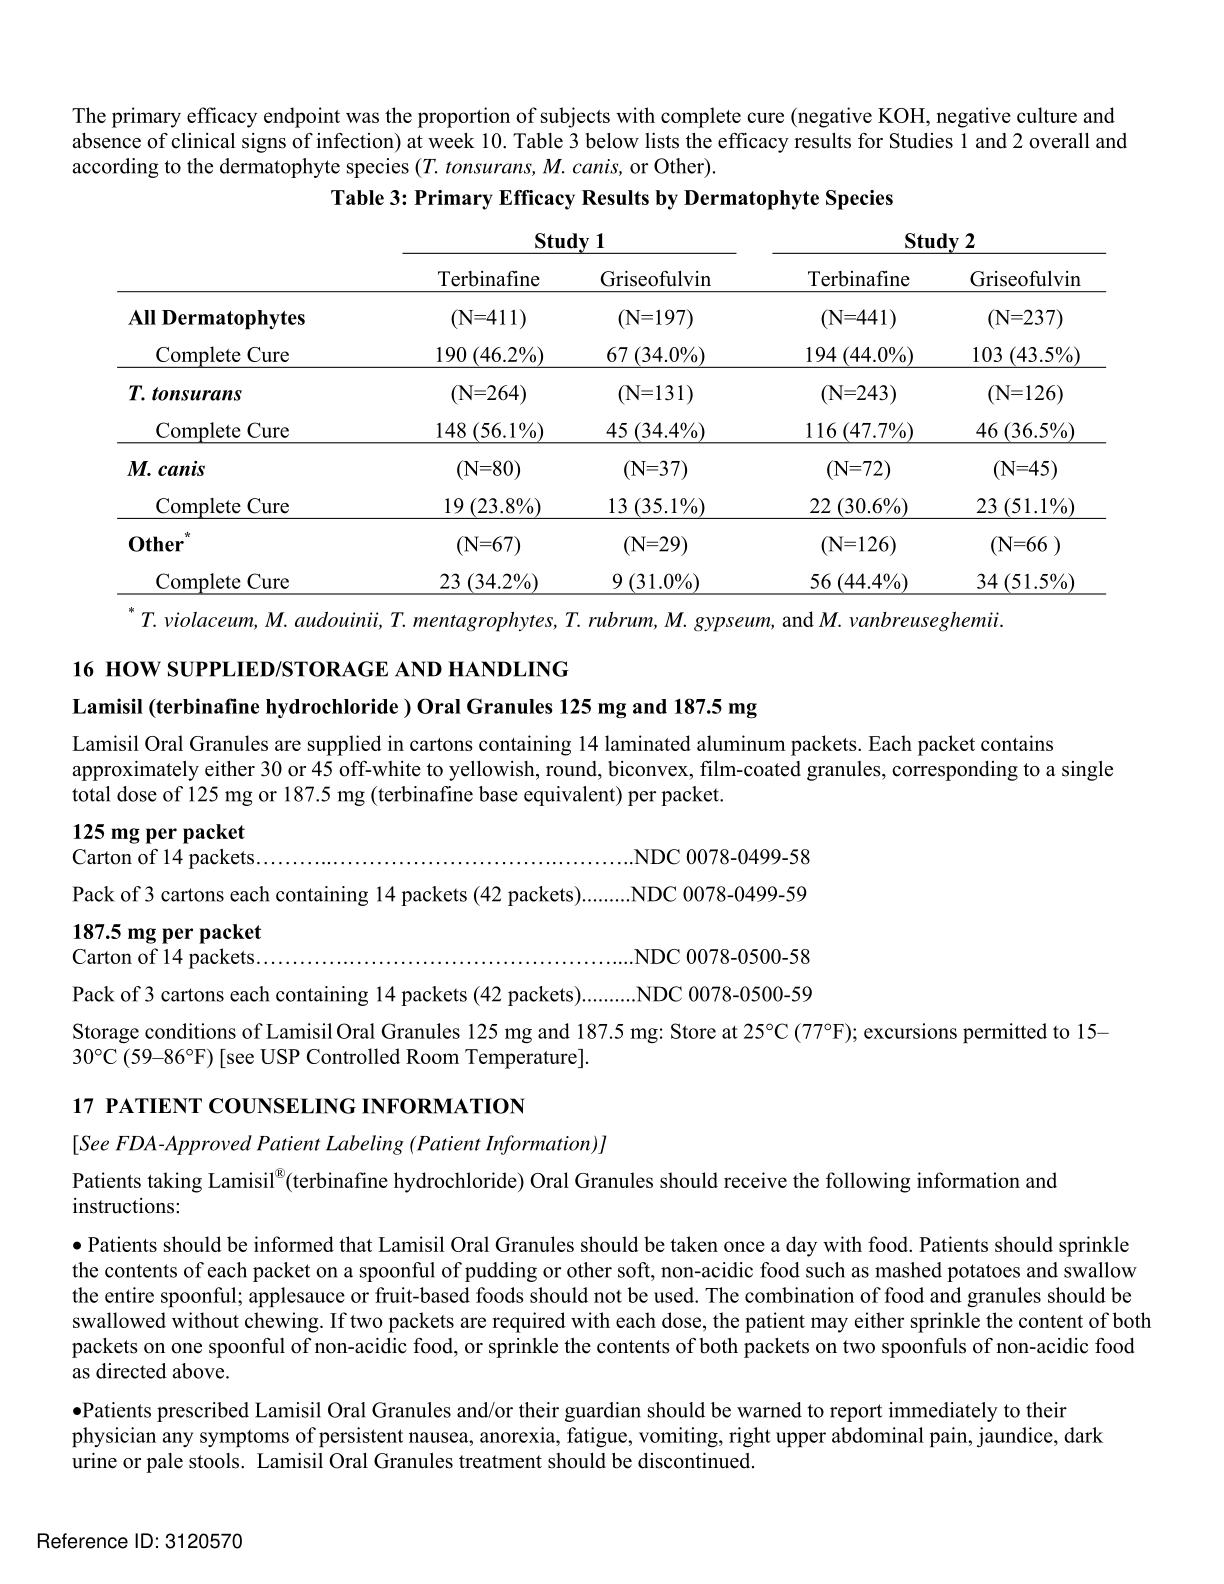partial_lined_merged_cells: (114, 219, 1107, 597)
